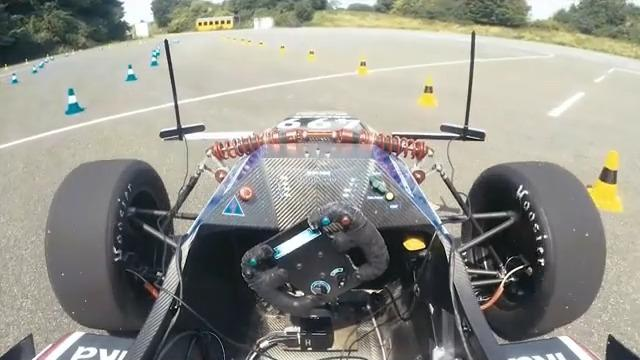blue_cone: (60, 85, 85, 115), (124, 63, 138, 83), (149, 53, 158, 68), (10, 71, 19, 84), (152, 47, 159, 62), (31, 66, 38, 75), (38, 61, 44, 71)
yellow_cone: (579, 144, 625, 212), (417, 77, 441, 107), (355, 58, 369, 78), (307, 48, 316, 63), (257, 39, 265, 51), (279, 43, 286, 56), (240, 36, 245, 46), (247, 38, 252, 47), (233, 37, 237, 44)
